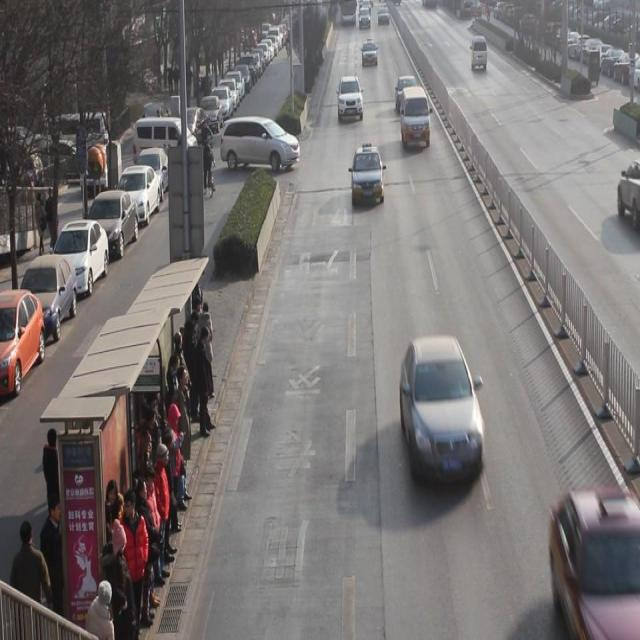car: (550, 487, 640, 640), (401, 338, 487, 490), (352, 145, 386, 207), (338, 75, 364, 123), (395, 78, 419, 119), (362, 41, 379, 69)
truck: (401, 85, 431, 151), (471, 37, 488, 73)
